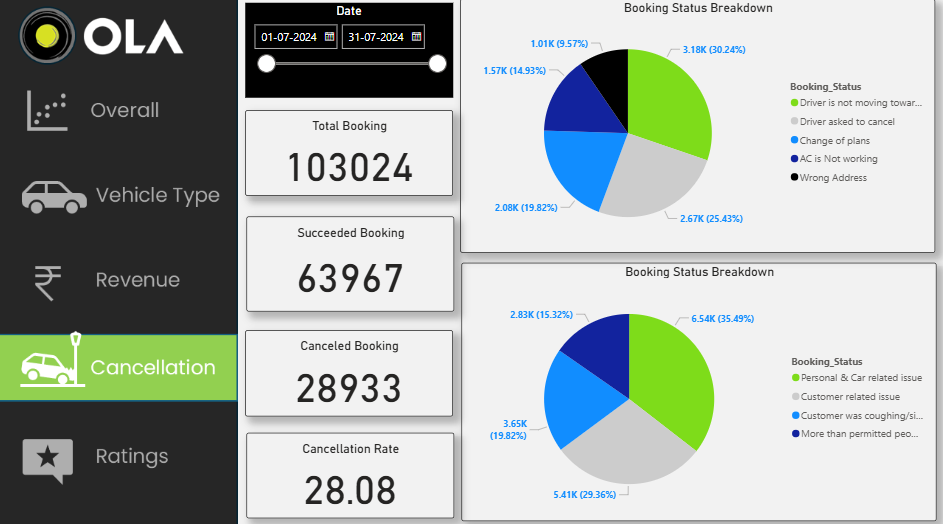

The dashboard page shown, as its layout file describes it:
{"tool":"powerbi","page":{"name":"Cancellation","canvas":[1280,720],"ordinal":3},"visuals":[{"type":"actionButton","box":[0,232.3,322.7,90.4],"z":0},{"type":"actionButton","box":[1.1,115,322.7,90.4],"z":1000},{"type":"actionButton","box":[0,343.9,322.7,90.4],"z":2000},{"type":"actionButton","box":[0,582.9,322.7,90.4],"z":3000},{"type":"pieChart","title":"Booking Status Breakdown","fields":{"Category":["Bookings-100000-Rows.Canceled_Rides_by_Customer"],"Y":["CountNonNull(Bookings-100000-Rows.Canceled_Rides_by_Customer)"]},"box":[625.7,0,644.3,344.3],"z":4000},{"type":"pieChart","title":"Booking Status Breakdown","fields":{"Category":["Bookings-100000-Rows.Canceled_Rides_by_Driver"],"Y":["CountNonNull(Bookings-100000-Rows.Canceled_Rides_by_Driver)"]},"box":[627.1,357.1,644.3,350],"z":5000},{"type":"slicer","title":"Date","fields":{"Values":["Bookings-100000-Rows.Date"]},"box":[334.3,5.7,281.4,128.6],"z":6000},{"type":"card","title":"Total Booking","fields":{"Values":["CountNonNull(Bookings-100000-Rows.Booking_ID)"]},"box":[334.3,151.4,281.4,115.7],"z":7000},{"type":"card","title":"Succeeded Booking","fields":{"Values":["CountNonNull(Bookings-100000-Rows.Booking_ID)"]},"box":[335.7,294.3,281.4,128.6],"z":8000},{"type":"card","title":"Canceled Booking","fields":{"Values":["CountNonNull(Bookings-100000-Rows.Booking_ID)"]},"box":[334.3,448.6,281.4,117.1],"z":9000},{"type":"card","title":"Cancellation Rate","fields":{"Values":["Bookings-100000-Rows.CanceledPracentage"]},"box":[335.7,588.6,281.4,115.7],"z":10000}]}

Visuals, with their boxes on the page's 1280x720 design canvas (x1, y1, x2, y2). These are canvas units, not pixel positions in the 943x524 screenshot, which may show the page scaled, cropped or inside an application window:
actionButton: {"left": 0, "top": 232, "right": 323, "bottom": 323}
actionButton: {"left": 1, "top": 115, "right": 324, "bottom": 205}
actionButton: {"left": 0, "top": 344, "right": 323, "bottom": 434}
actionButton: {"left": 0, "top": 583, "right": 323, "bottom": 673}
"Booking Status Breakdown" pieChart: {"left": 626, "top": 0, "right": 1270, "bottom": 344}
"Booking Status Breakdown" pieChart: {"left": 627, "top": 357, "right": 1271, "bottom": 707}
"Date" slicer: {"left": 334, "top": 6, "right": 616, "bottom": 134}
"Total Booking" card: {"left": 334, "top": 151, "right": 616, "bottom": 267}
"Succeeded Booking" card: {"left": 336, "top": 294, "right": 617, "bottom": 423}
"Canceled Booking" card: {"left": 334, "top": 449, "right": 616, "bottom": 566}
"Cancellation Rate" card: {"left": 336, "top": 589, "right": 617, "bottom": 704}
